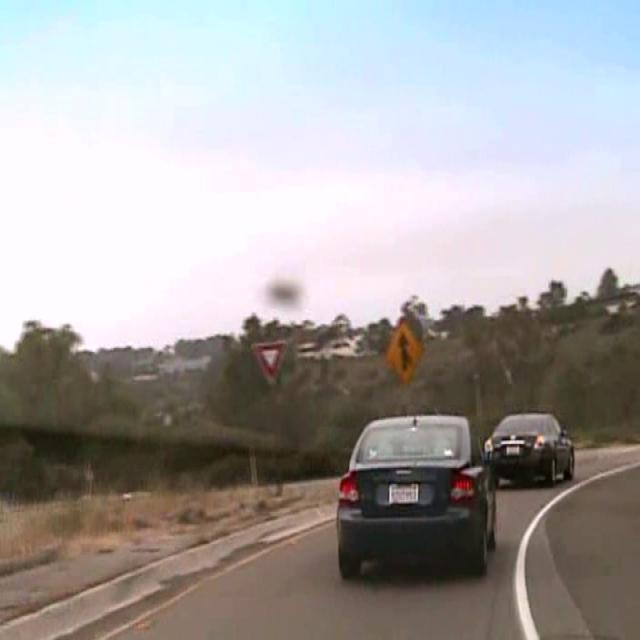yield: (251, 337, 286, 384)
